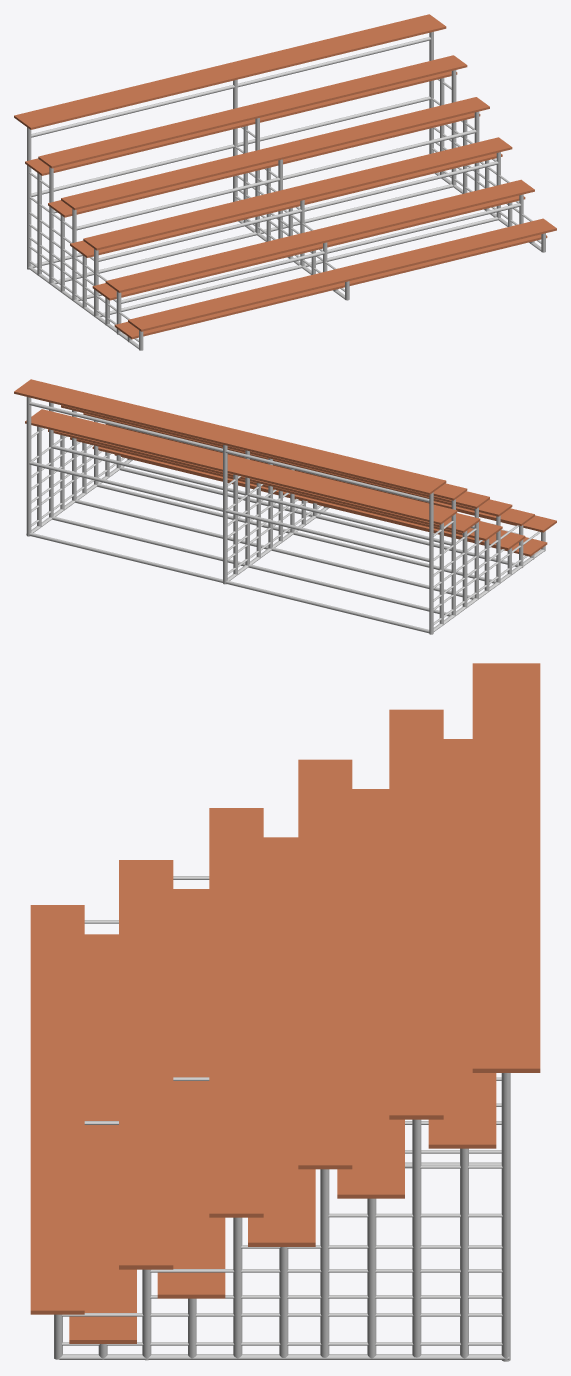
File: Bleachers.fbx
The picture shows the model from 3 angles, top to bottom: view 1: azimuth 30°, elevation 25°; view 2: azimuth 150°, elevation 25°; view 3: azimuth 270°, elevation 25°; orthographic projection. The views are drawn at different scales.
Parts seen in each view (by area): view 1: Bleachers; view 2: Bleachers; view 3: Bleachers.
Part boxes in pixels (x1,y1,x2,y2): Bleachers: (14, 14, 556, 350); Bleachers: (14, 379, 556, 634); Bleachers: (30, 663, 540, 1361).
Size of the model in its own units: 107053 by 36601 by 56886.
